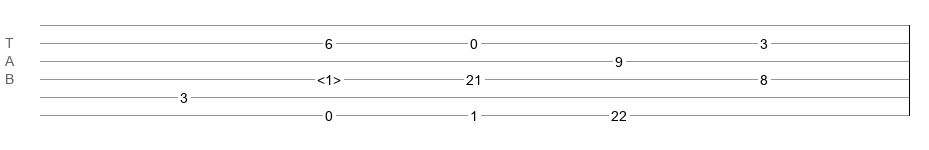0: (325, 108, 333, 118), (470, 36, 478, 46)
1: (470, 108, 478, 118)
21: (466, 72, 482, 82)
22: (611, 108, 627, 118)
3: (180, 90, 188, 100), (760, 36, 768, 46)
6: (325, 36, 333, 46)
8: (760, 72, 768, 82)
9: (615, 54, 623, 64)
harmonic: (317, 72, 341, 82)
